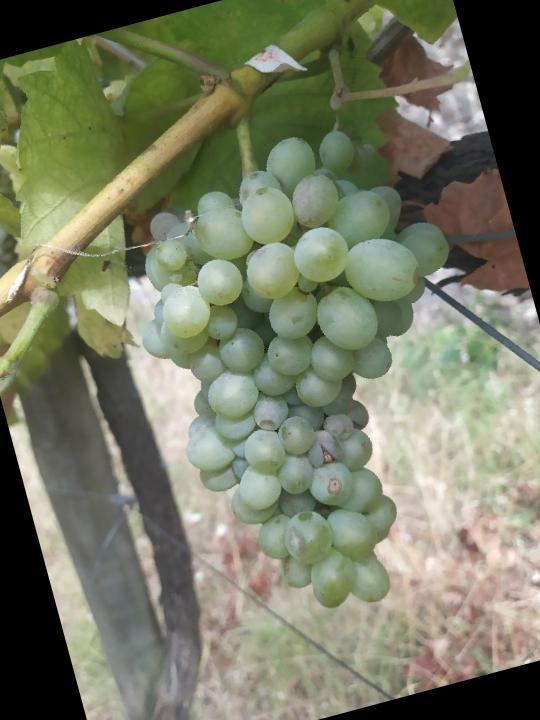grape: (94, 97, 537, 648)
